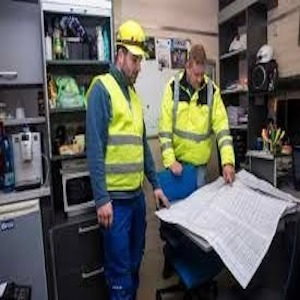safety: (115, 23, 153, 56)
vest: (162, 77, 234, 169), (104, 84, 144, 191)
